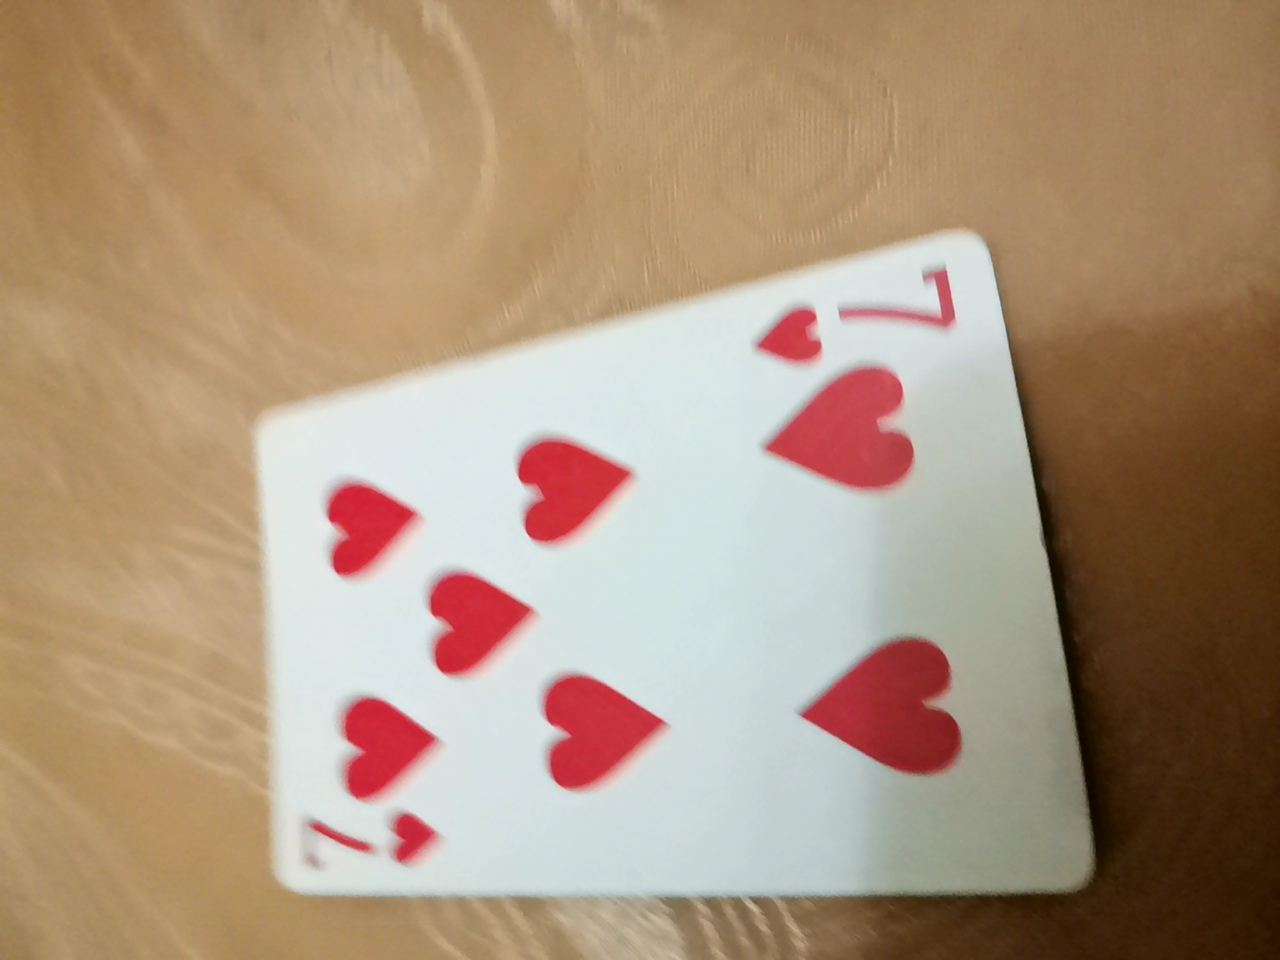hx 7: (310, 299, 1089, 954)
